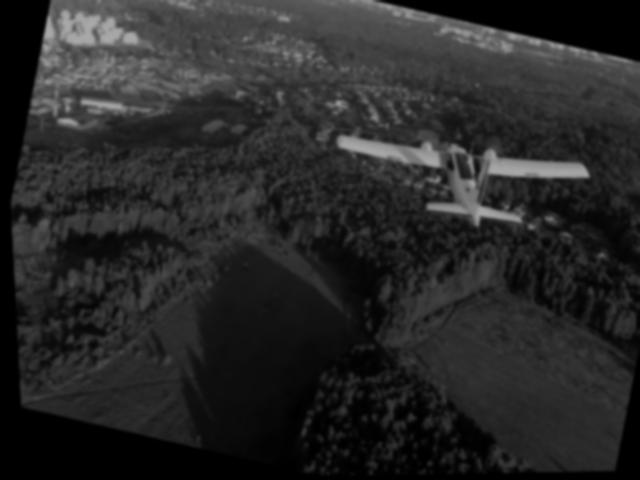hedef: (317, 102, 597, 261)
